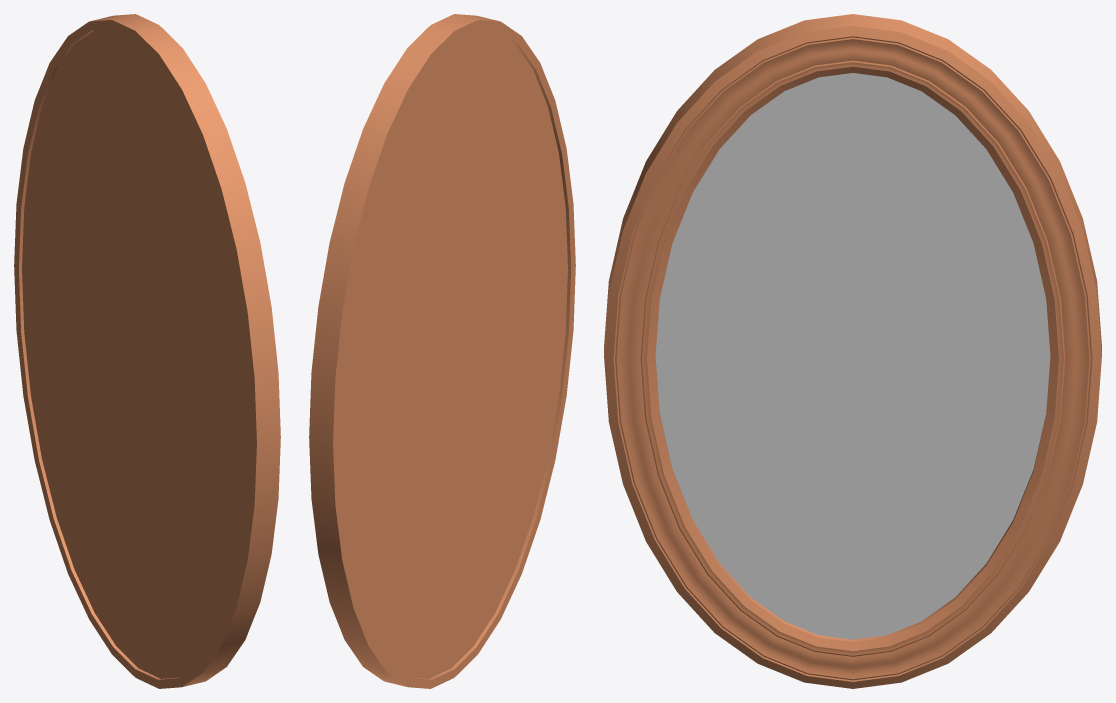
Rendered from CuadroOvalado.fbx.
The picture shows the model from 3 angles, left to right: view 1: azimuth 30°, elevation 25°; view 2: azimuth 150°, elevation 25°; view 3: azimuth 270°, elevation 25°; orthographic projection. The views are drawn at different scales.
Parts seen in each view (by area): view 1: CuadroCircular; view 2: CuadroCircular; view 3: CuadroCircular.
Part boxes in pixels (left/top/right/bottom): CuadroCircular: left=14, top=14, right=280, bottom=688; CuadroCircular: left=309, top=14, right=575, bottom=688; CuadroCircular: left=604, top=14, right=1101, bottom=688.
Size of the model in its own units: 2.74 by 62.05 by 42.22.
